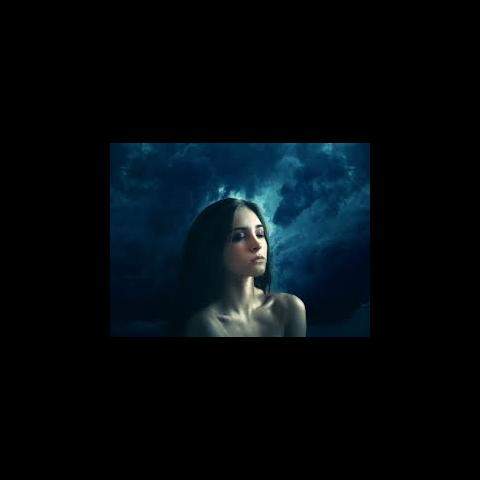closed: (222, 226, 270, 243)
